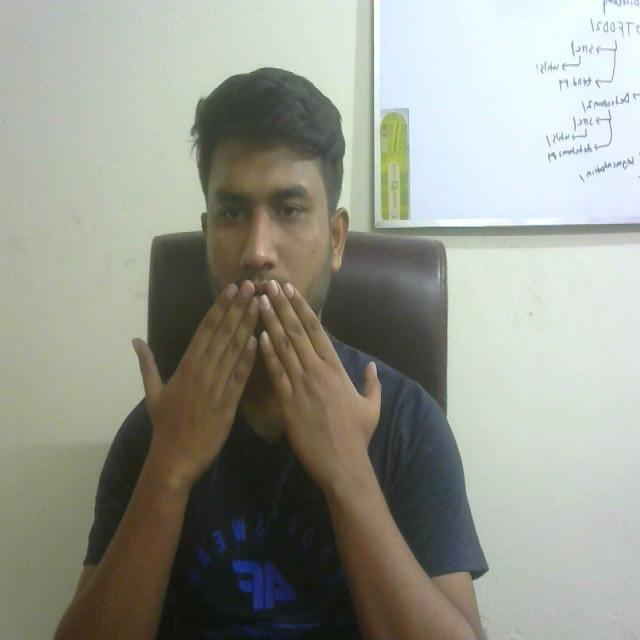Hello: (97, 275, 403, 492)
